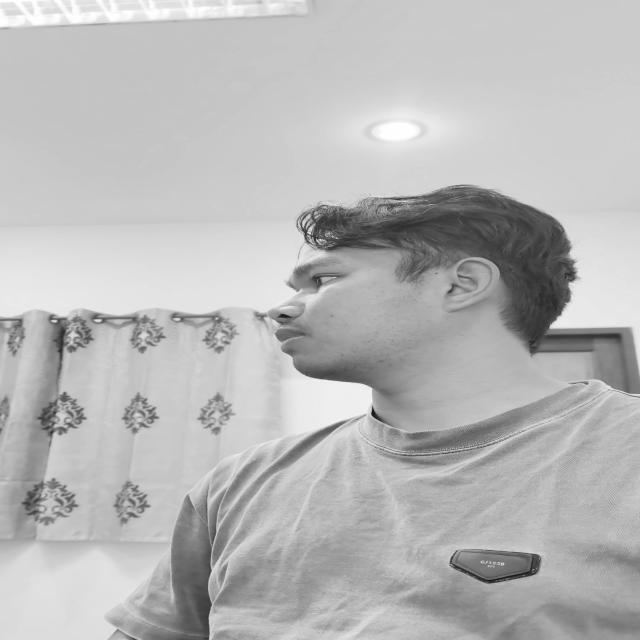ear: (444, 257, 500, 312)
